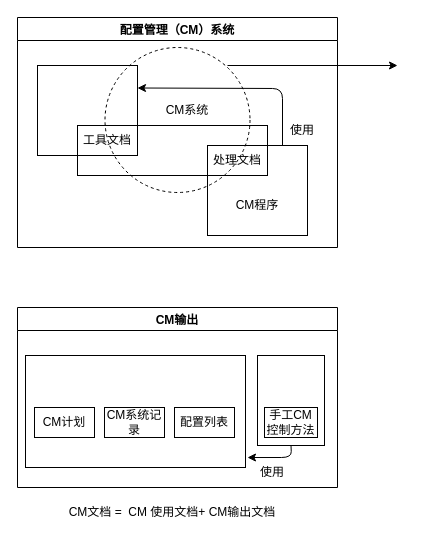
The diagram is 423 pixels wide and 545 high, and some of its shapes have lost their labels. The shapes that lost their labels are listed below. From the top down, each one's box as (x1, y1, x2, y2) in pixels, then its label:
(36, 64, 138, 156): CM工具
(76, 124, 268, 176): CM使用文档
(24, 354, 246, 468): CM输出文档
(256, 354, 324, 446): 行动
